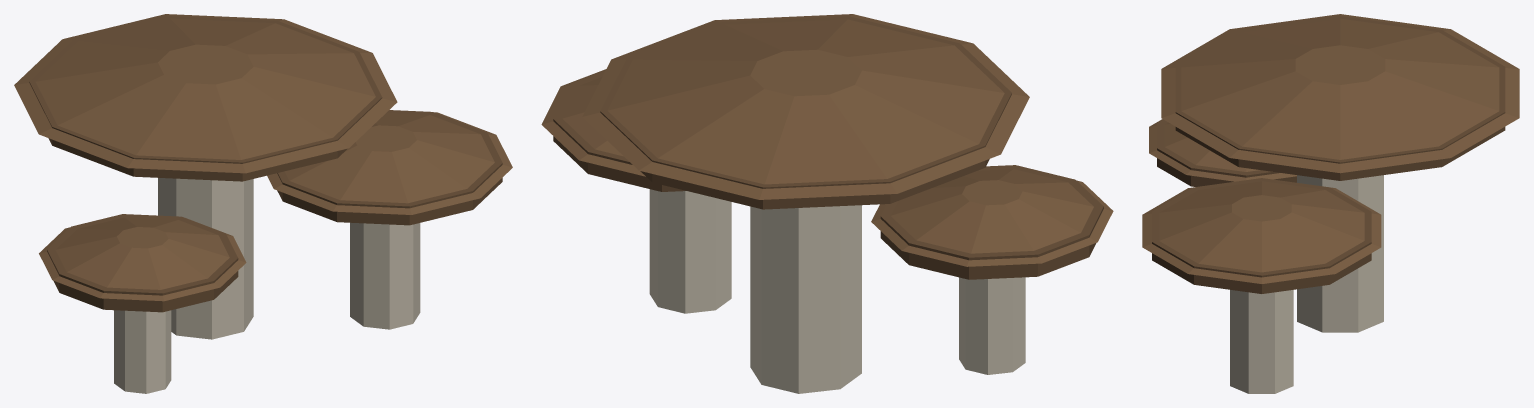
The model's file is CaveMushroom.glb.
The picture shows the model from 3 angles, left to right: view 1: azimuth 30°, elevation 25°; view 2: azimuth 150°, elevation 25°; view 3: azimuth 270°, elevation 25°; orthographic projection. The views are drawn at different scales.
Parts seen in each view (by area): view 1: Body; view 2: Body; view 3: Body.
Boxes of the visible parts, box(x1,y1,x2,y2) form: Body: box(14, 14, 512, 393); Body: box(541, 14, 1113, 393); Body: box(1142, 14, 1519, 393).
Bounding box in the file's own units: 3.25 × 1.75 × 2.4.
